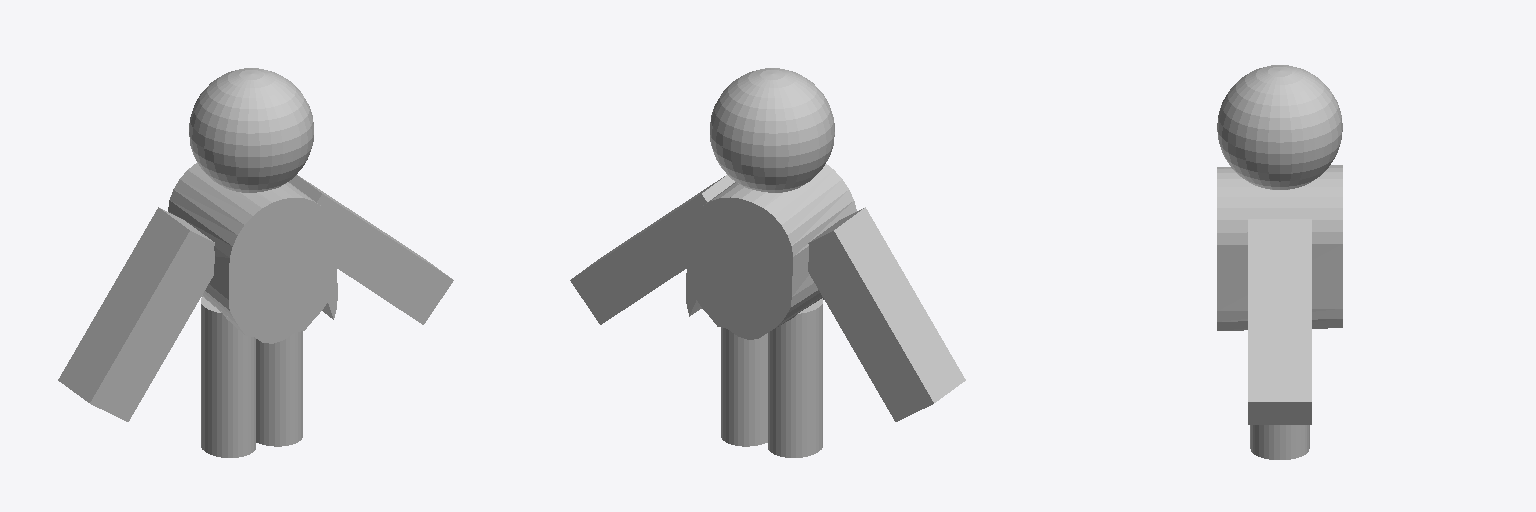
File: Figurine31.obj
3 views of the same model, side by side, from view 1: azimuth 30°, elevation 25°; view 2: azimuth 150°, elevation 25°; view 3: azimuth 270°, elevation 25° (orthographic).
Visible parts, largest first — view 1: Cylinder; view 2: Cylinder; view 3: Cylinder.
Part boxes in pixels (x1,y1,x2,y2): Cylinder: (58, 68, 453, 457); Cylinder: (570, 68, 965, 457); Cylinder: (1217, 65, 1342, 459).
Bounding box in the file's own units: 6.68 × 6.42 × 2.